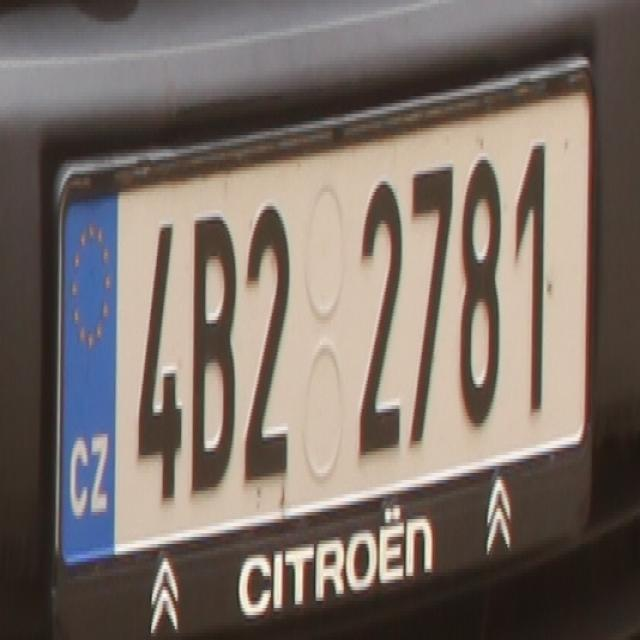1: (516, 138, 546, 416)
2: (244, 199, 289, 477), (358, 178, 404, 448)
4: (136, 213, 183, 512)
7: (408, 156, 453, 448)
8: (461, 153, 501, 427)
B: (188, 206, 236, 487)
